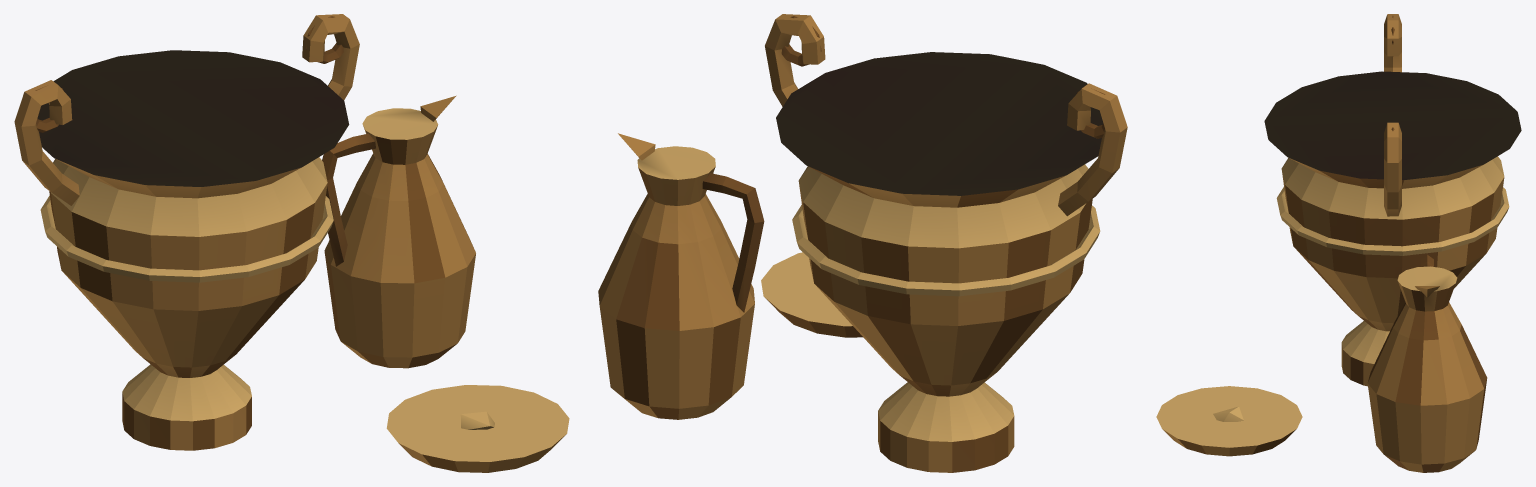
3 views of the same model, side by side, from view 1: azimuth 30°, elevation 25°; view 2: azimuth 150°, elevation 25°; view 3: azimuth 270°, elevation 25° (orthographic). The views are drawn at different scales.
Visible parts, largest first — view 1: base; view 2: base; view 3: base.
Part boxes in pixels (<box>): base: <box>14,14,569,472</box>; base: <box>598,14,1127,472</box>; base: <box>1156,14,1521,472</box>.
Bounding box in the file's own units: 0.4997 × 0.3797 × 0.4244.
